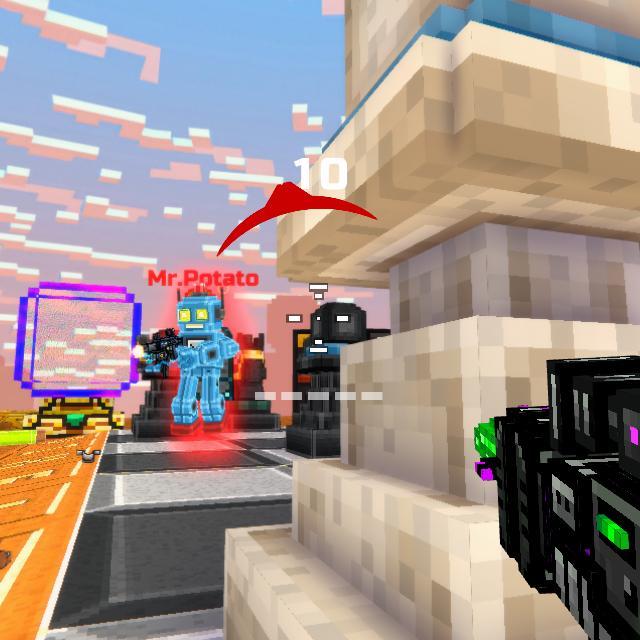Enemy: (153, 292, 241, 433)
